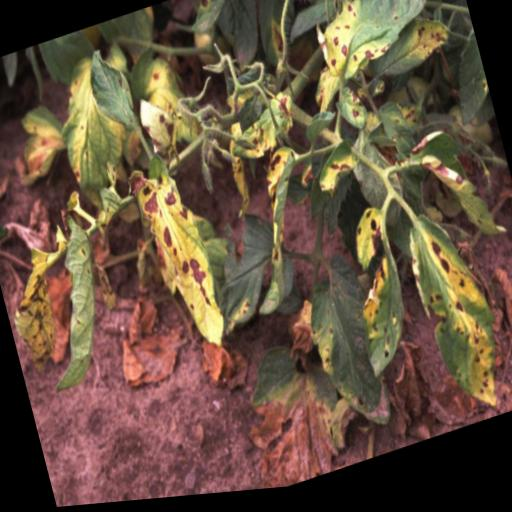Early Blight: (398, 207, 512, 432), (117, 149, 227, 365), (292, 247, 395, 449), (290, 0, 447, 112), (398, 120, 509, 268), (332, 209, 422, 389), (0, 239, 81, 387), (308, 138, 366, 207), (330, 83, 372, 144)
